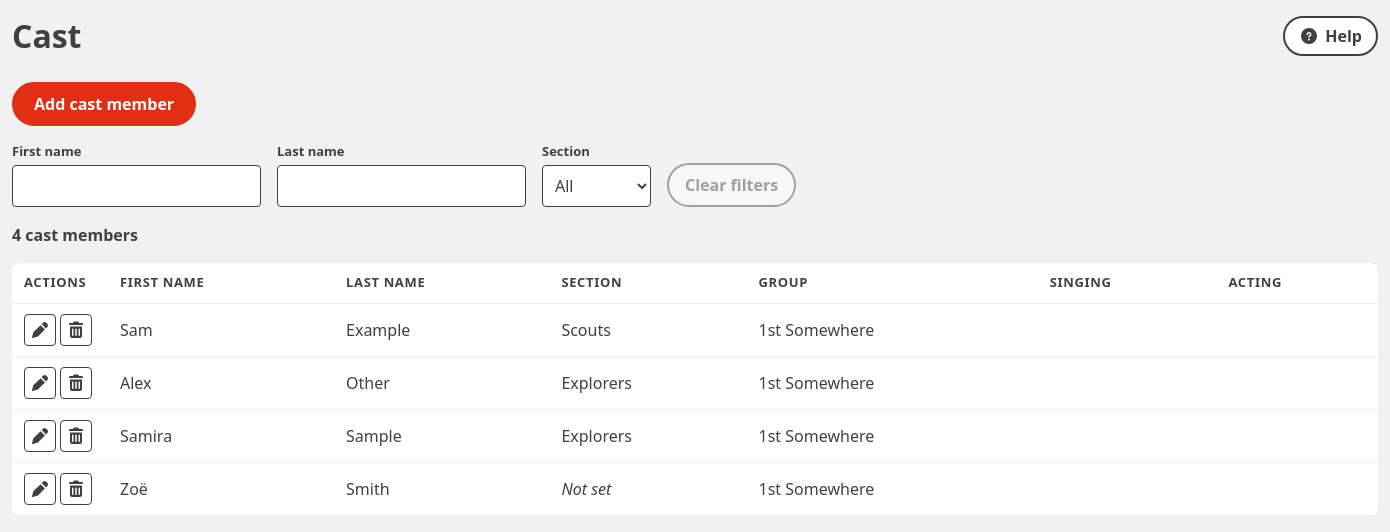
Cast page › filtering › says when nothing matches
Type "nobody" into the search field named "firstName" at x=136, y=186, box [12, 165, 261, 207]
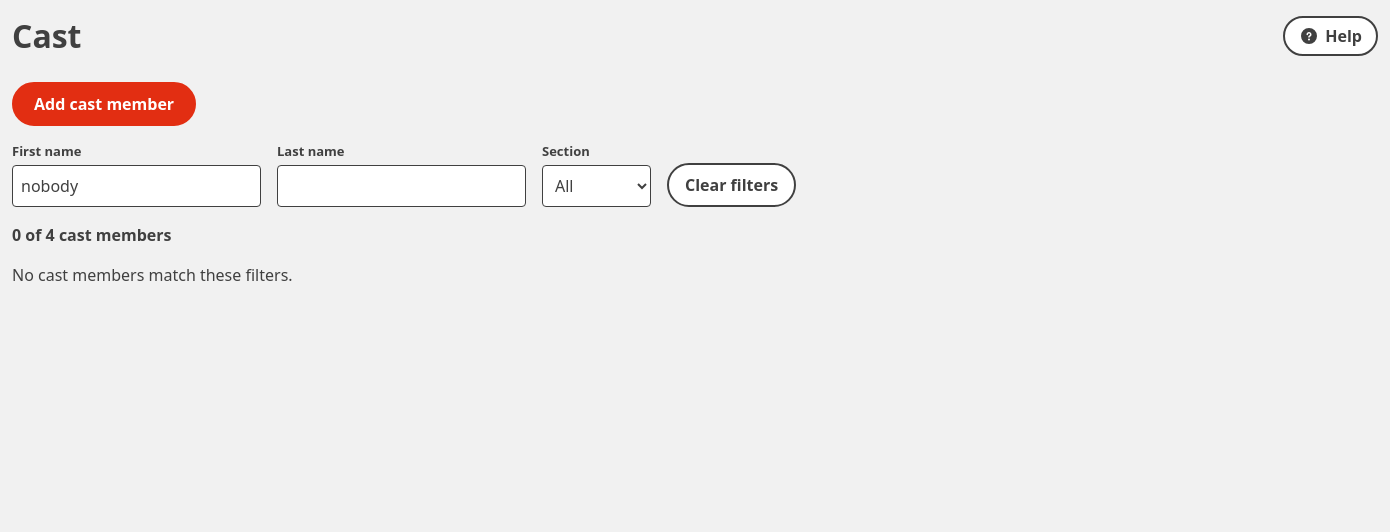
Expected: the text "No cast members match these filters" is shown, [12, 264, 293, 286]
